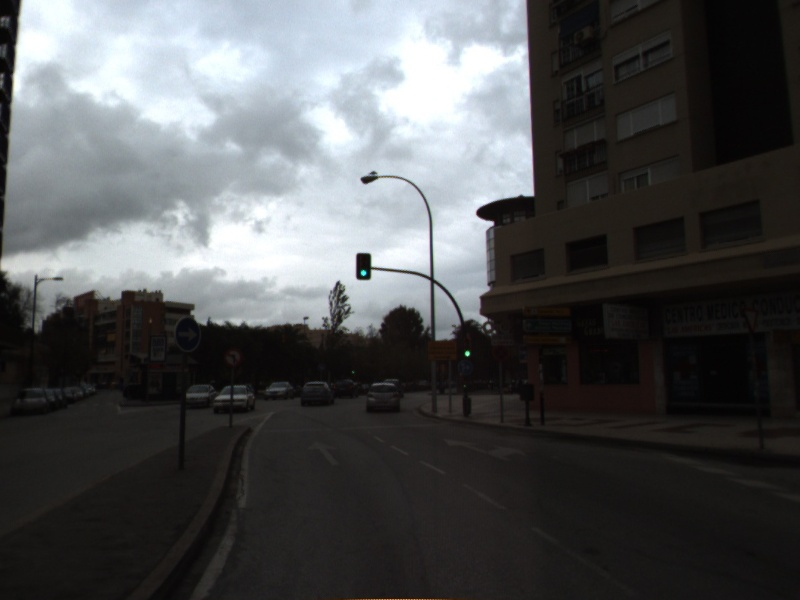STRAIGHT: (306, 439, 342, 467)
STRAIGHT_RIGHT: (442, 437, 529, 463)
